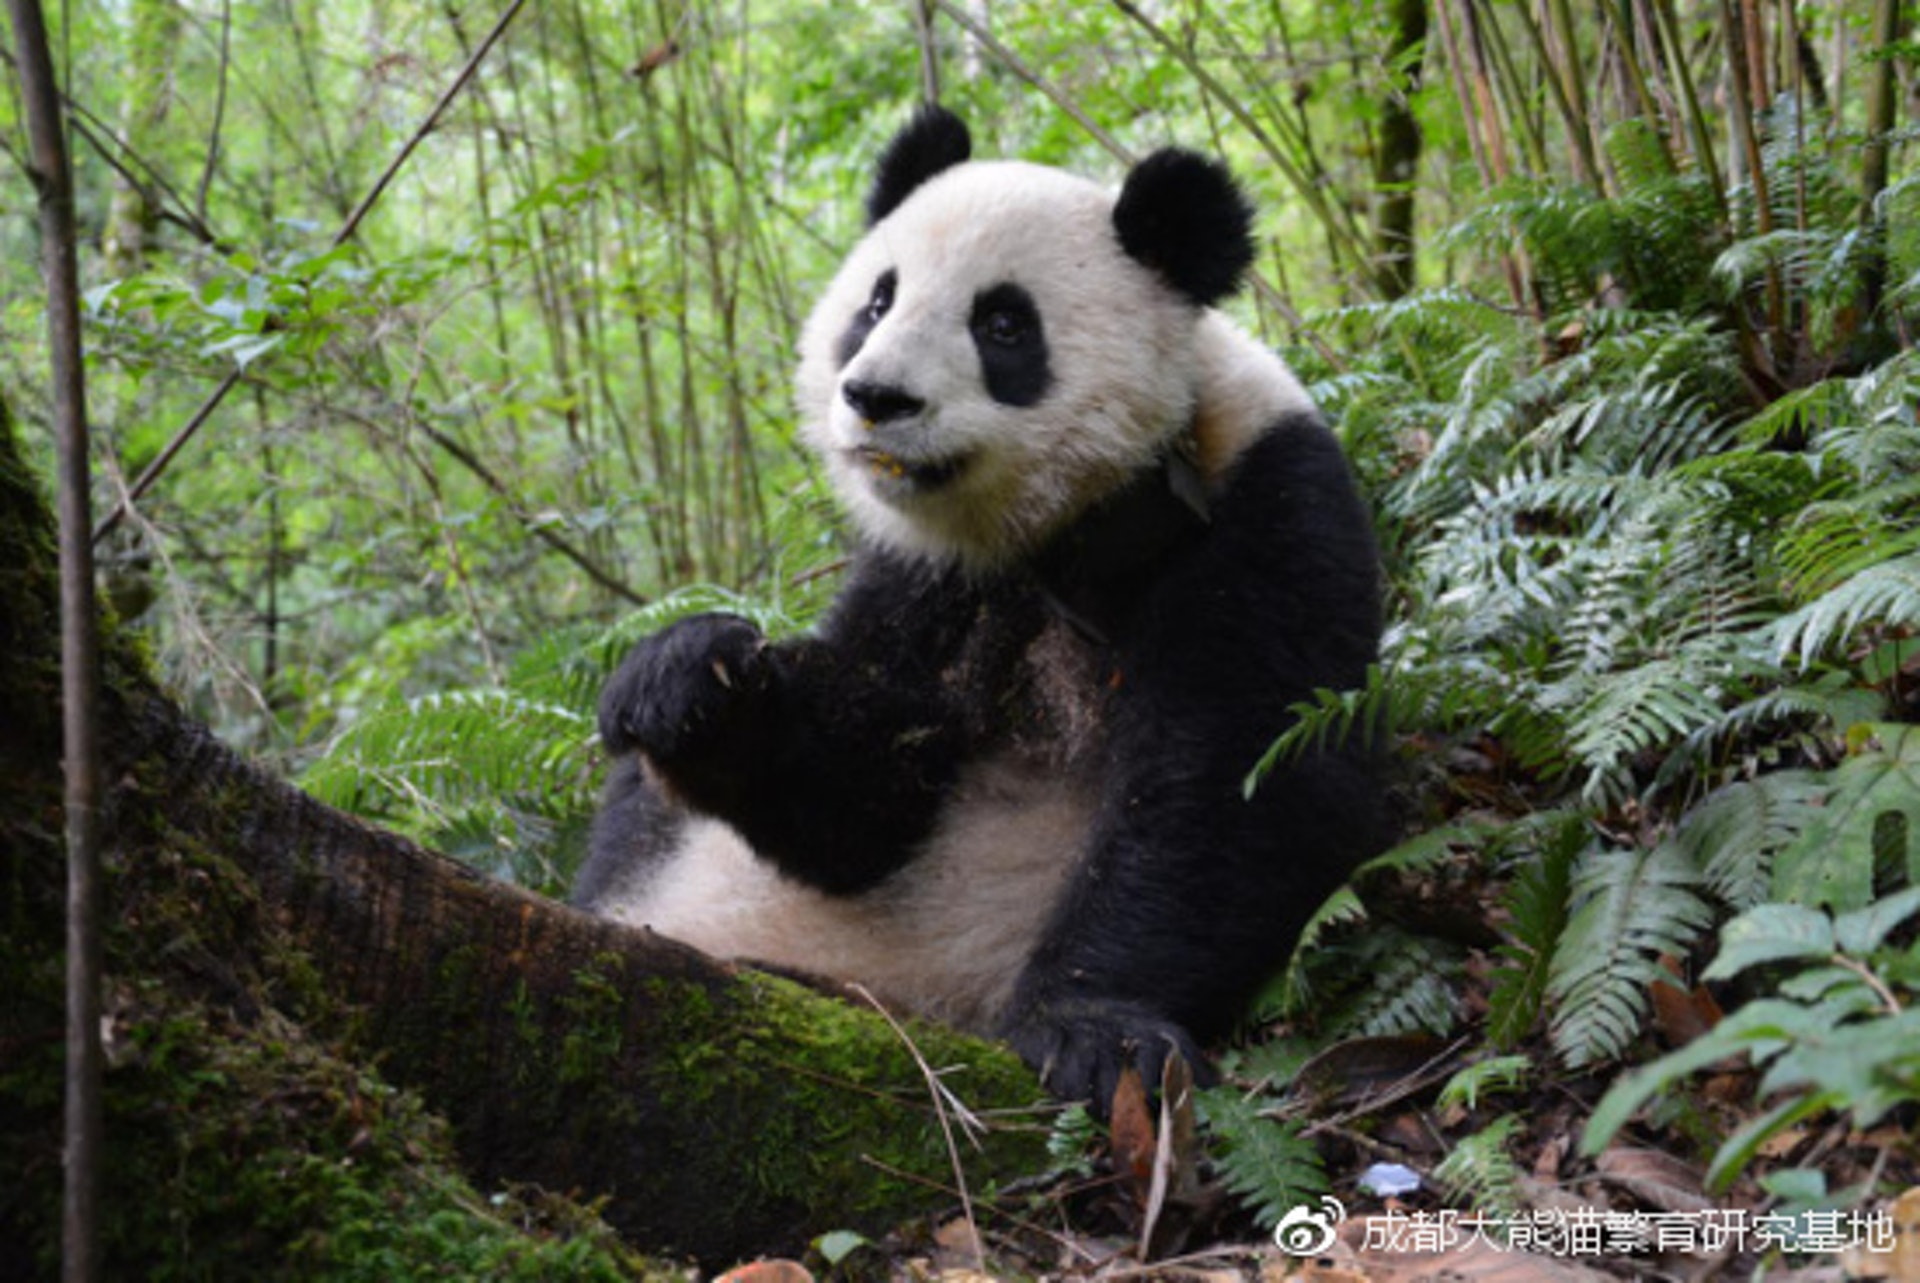panda: (558, 105, 1380, 1105)
